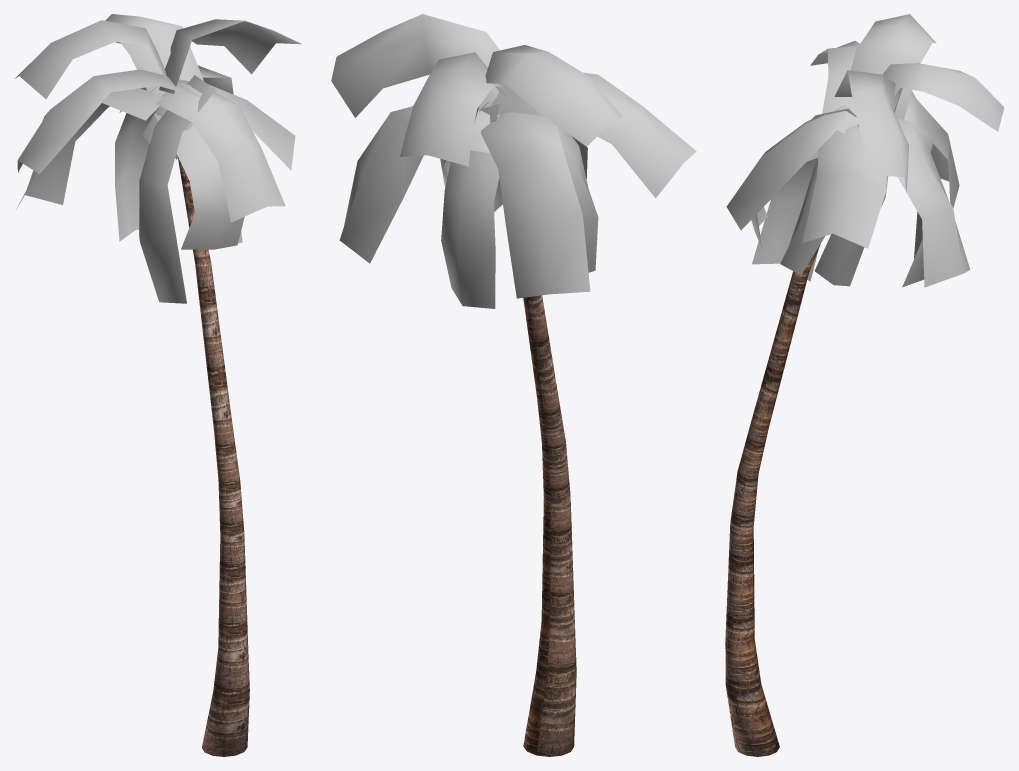
The model's file is palm2.dae.
The picture shows the model from 3 angles, left to right: view 1: azimuth 30°, elevation 25°; view 2: azimuth 150°, elevation 25°; view 3: azimuth 270°, elevation 25°; orthographic projection. The views are drawn at different scales.
Visible parts, largest first — view 1: meshU3D; view 2: meshU3D; view 3: meshU3D.
Boxes of the visible parts, x1,y1,x2,y2 form: meshU3D: (15,14,301,756); meshU3D: (331,14,696,756); meshU3D: (725,14,1004,756).
Bounding box in the file's own units: 108 × 237 × 85.86.
